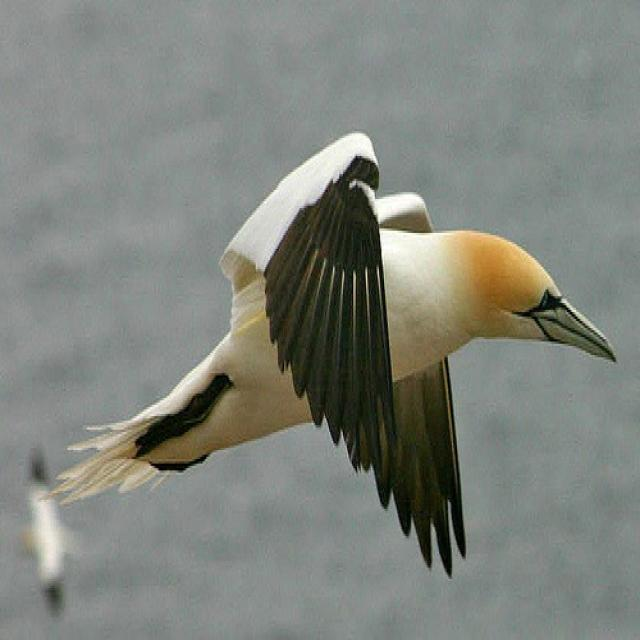bird: (45, 127, 621, 588)
